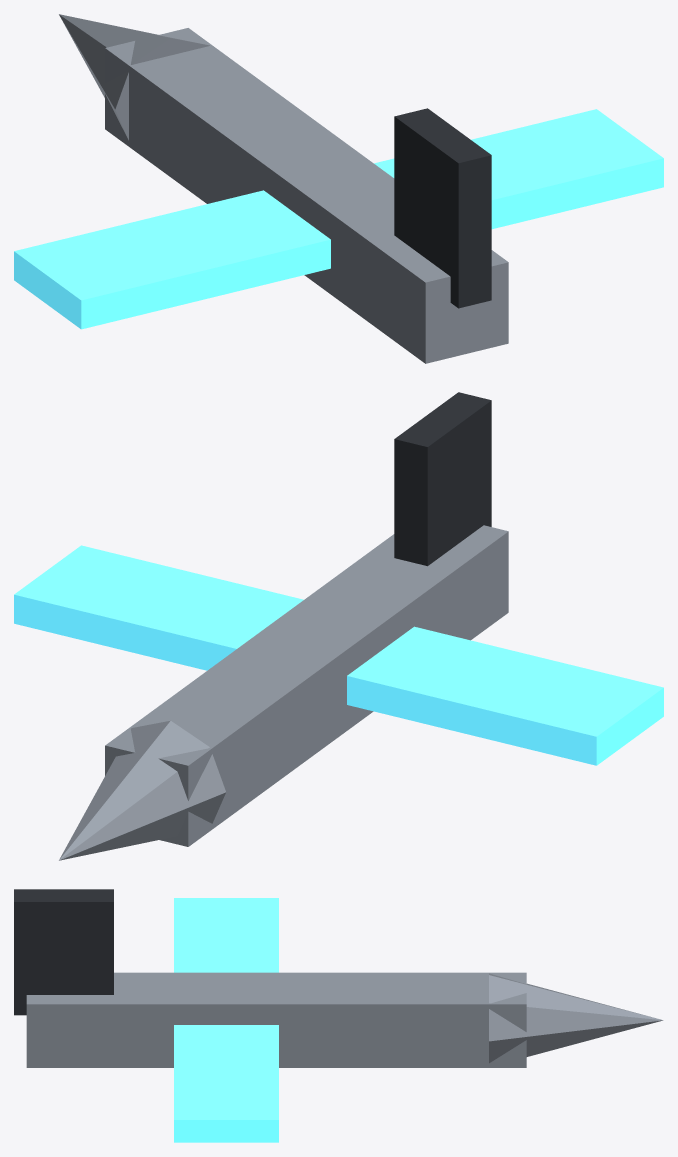
The model's file is troyden_strike_interceptor.glb.
3 views of the same model, one above another, from view 1: azimuth 30°, elevation 25°; view 2: azimuth 150°, elevation 25°; view 3: azimuth 270°, elevation 25° (orthographic). The views are drawn at different scales.
Visible parts, largest first — view 1: hull; view 2: hull; view 3: hull.
Boxes of the visible parts, bbox=[...] form: hull: bbox=[14, 14, 663, 363]; hull: bbox=[14, 392, 663, 860]; hull: bbox=[14, 889, 663, 1142].
Size of the model in its own units: 10.92 by 3.9 by 13.52.
